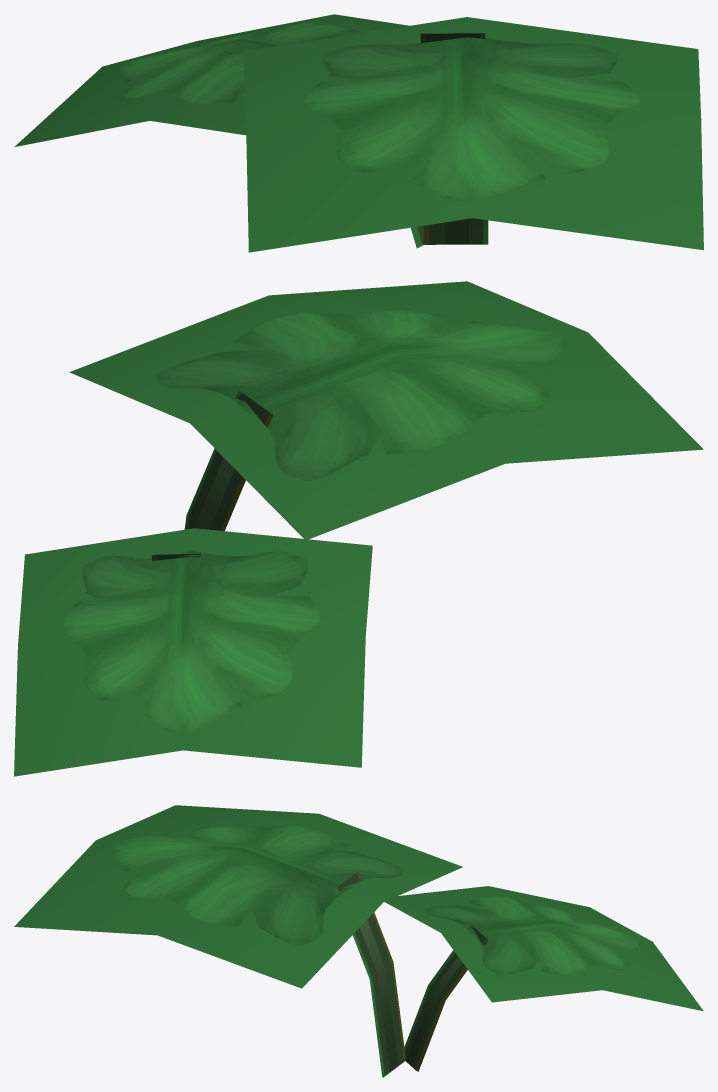
The model's file is grass_pant_05A.fbx.
3 renders of one model, top to bottom at view 1: azimuth 30°, elevation 25°; view 2: azimuth 150°, elevation 25°; view 3: azimuth 270°, elevation 25°, orthographic. The views are drawn at different scales.
Parts seen in each view (by area): view 1: grass_pant_05A; view 2: grass_pant_05A; view 3: grass_pant_05A.
Boxes of the visible parts, left/top/right/bottom form: grass_pant_05A: left=14, top=14, right=703, bottom=252; grass_pant_05A: left=14, top=281, right=703, bottom=776; grass_pant_05A: left=14, top=805, right=703, bottom=1077.
Size of the model in its own units: 1.22 by 0.5664 by 1.88.
